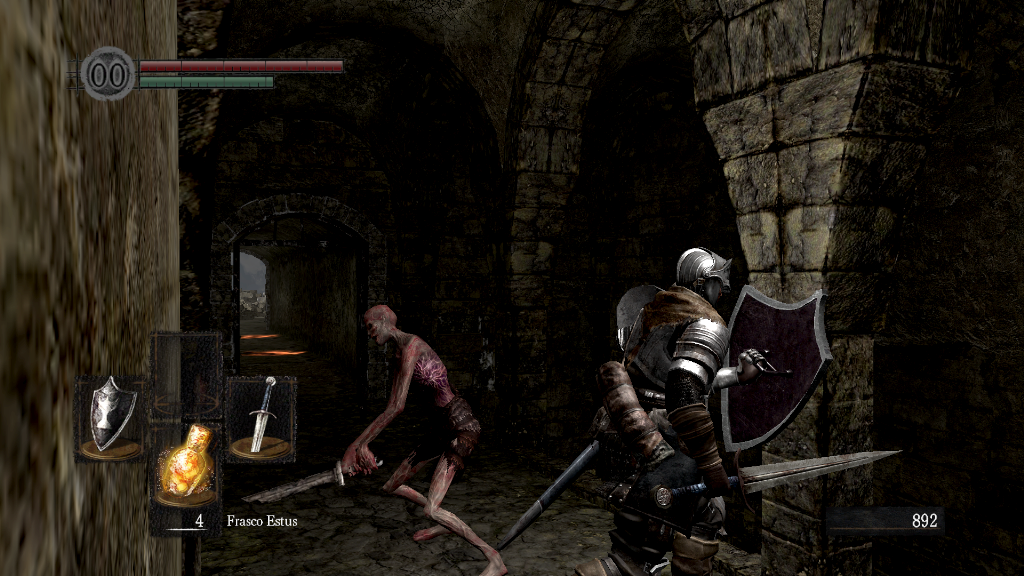health: (138, 58, 343, 71)
hollow: (342, 303, 511, 576)
humanity: (80, 45, 136, 102)
player: (505, 245, 904, 576)
souls: (825, 506, 945, 536)
stamina: (138, 74, 274, 88)
